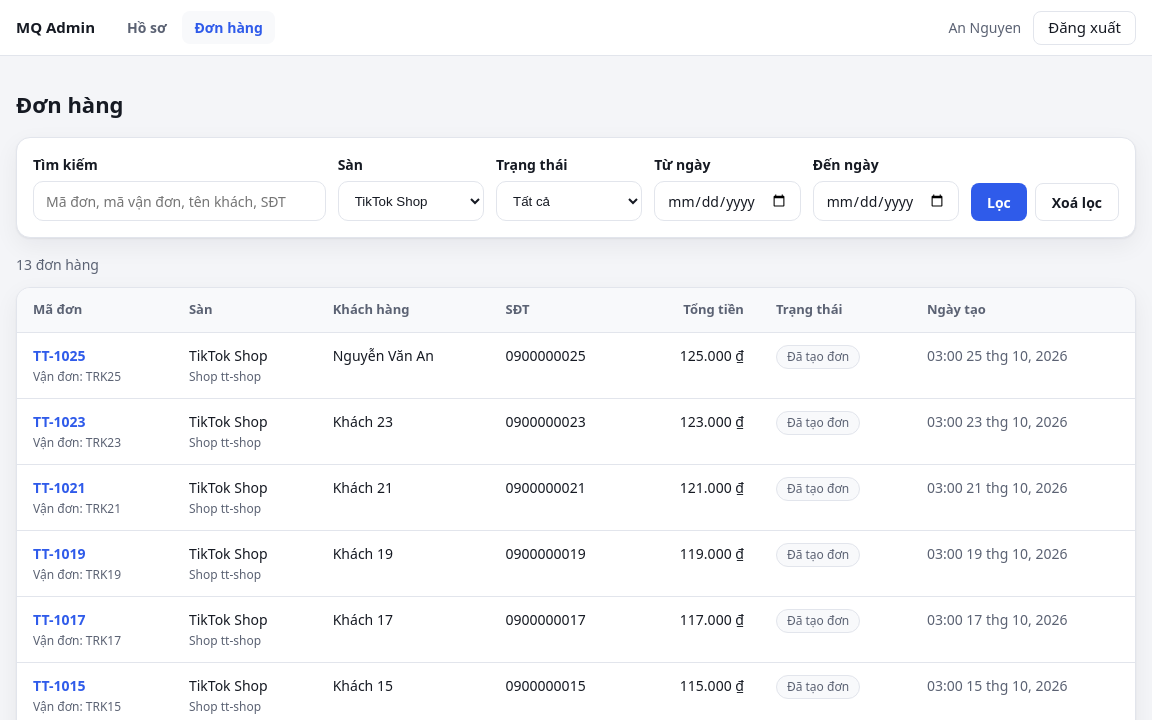
it: OrderDetailPage › opens from the list and shows the order, customer and items
The width and height of the screenshot is (1152, 720).
Expected: the heading "Đơn hàng" is shown, x1=16 y1=89 x2=124 y2=119
What coordinates should you click on to do the following:
click the link "TT-1025"
I would click on:
 (59, 355)
Its box is x1=33 y1=346 x2=86 y2=364.
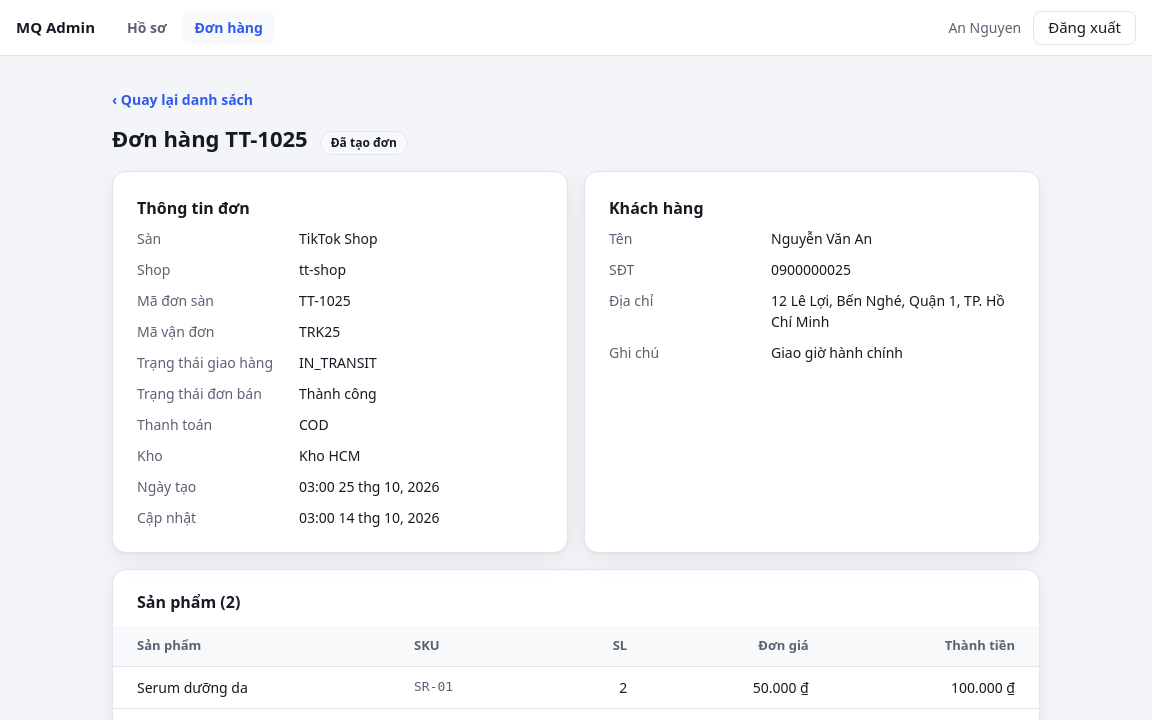
Expected: the heading "Đơn hàng TT-1025" is shown, x1=112 y1=122 x2=308 y2=155
Expected: the text "12 Lê Lợi, Bến Nghé, Quận 1, TP. Hồ Chí Minh" is shown, x1=771 y1=290 x2=1015 y2=332
Expected: the text "Giao giờ hành chính" is shown, x1=771 y1=343 x2=903 y2=362
Note: Back keeps the list filters.
What coordinates should you click on to do the following:
click the link "‹ Quay lại danh sách"
I would click on:
 (182, 100)
Its box is x1=112 y1=89 x2=253 y2=110.
(page scrolled)
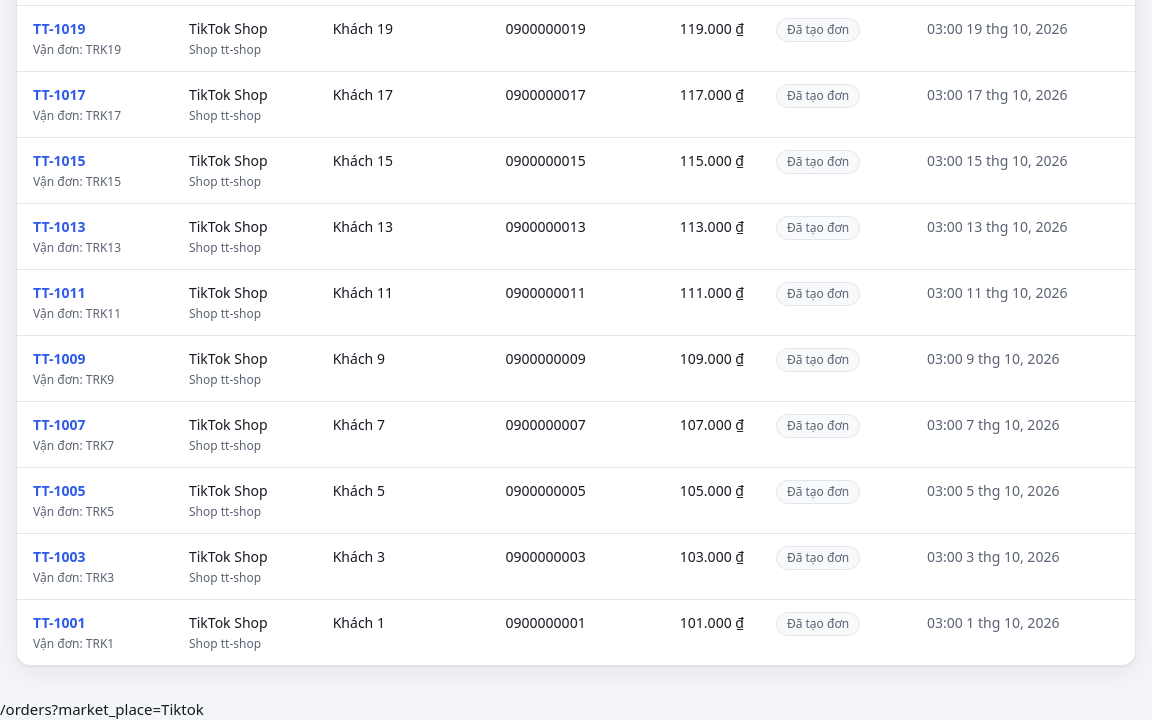
Expected: the text with test id "location" reads "/orders?market_place=Tiktok", x1=0 y1=698 x2=204 y2=718
